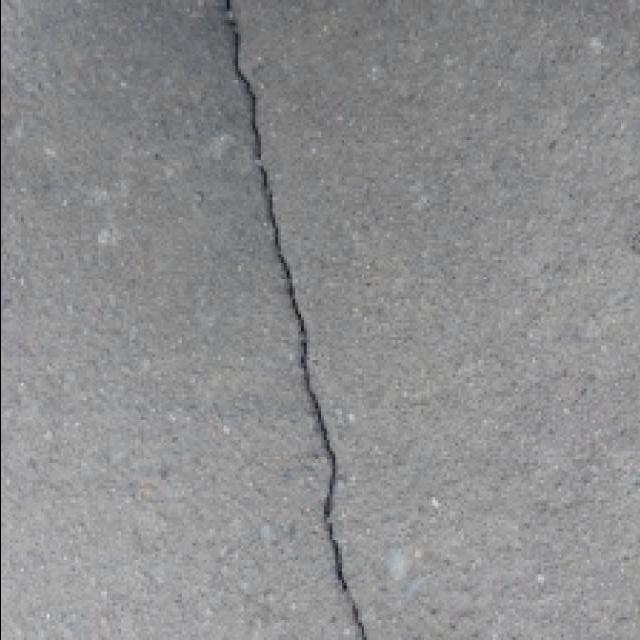SurfaceCrack: (186, 0, 398, 640)
